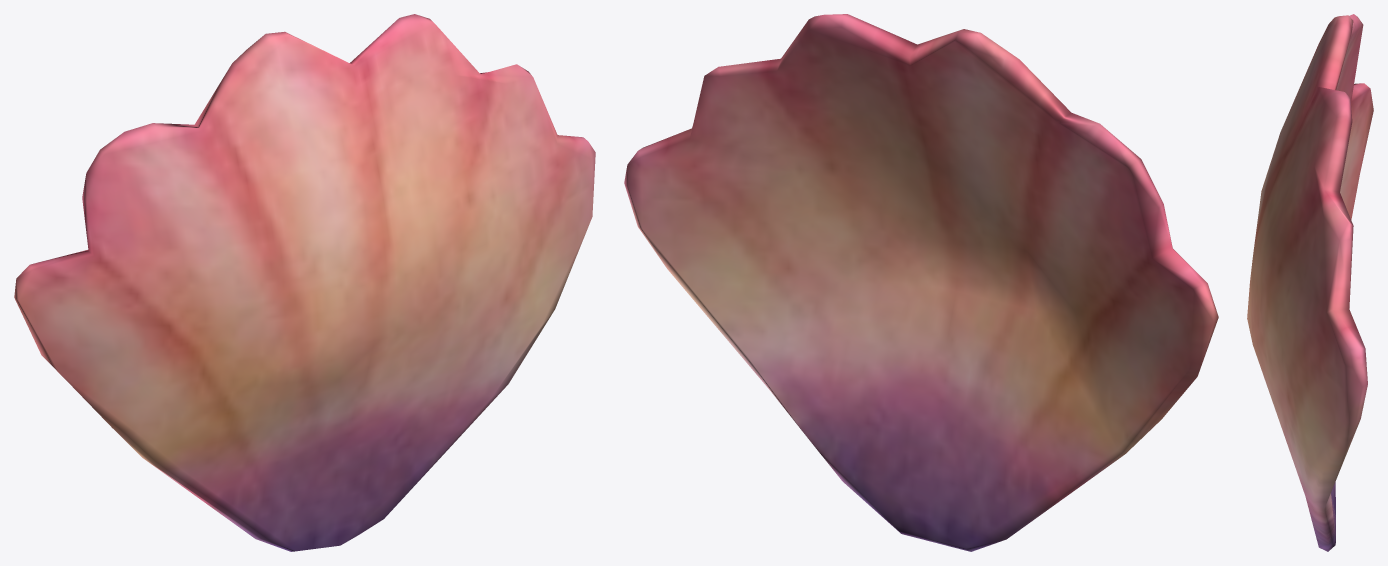
The model's file is clamshell.glb.
3 renders of one model, left to right at view 1: azimuth 30°, elevation 25°; view 2: azimuth 150°, elevation 25°; view 3: azimuth 270°, elevation 25°, orthographic. The views are drawn at different scales.
Visible parts, largest first — view 1: clamshell; view 2: clamshell; view 3: clamshell.
Boxes of the visible parts, x1,y1,x2,y2 form: clamshell: [14, 14, 595, 551]; clamshell: [624, 14, 1218, 551]; clamshell: [1247, 14, 1373, 551].
Size of the model in its own units: 0.4735 by 0.4037 by 0.0929.
Materials: 1 (1 with a texture image).
